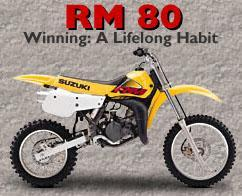motorcycle: (2, 46, 242, 191)
